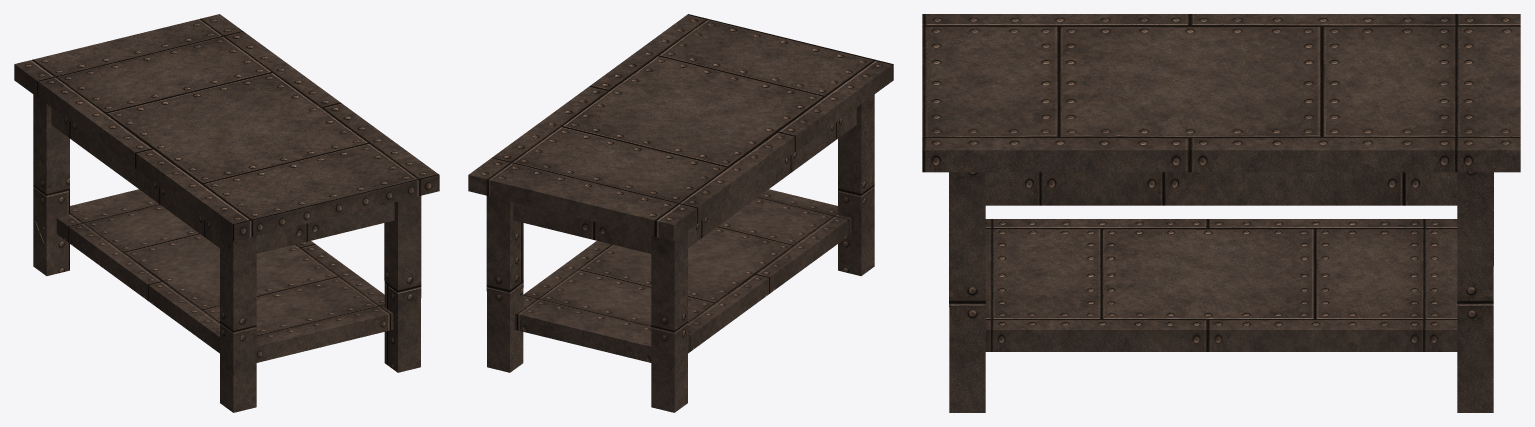
File: Livingroom_Table_2_Metal.fbx
3 views of the same model, side by side, from view 1: azimuth 30°, elevation 25°; view 2: azimuth 150°, elevation 25°; view 3: azimuth 270°, elevation 25° (orthographic). The views are drawn at different scales.
Visible parts, largest first — view 1: Livingroom_Table_2_Metal; view 2: Livingroom_Table_2_Metal; view 3: Livingroom_Table_2_Metal.
Part boxes in pixels (x1=…): Livingroom_Table_2_Metal: x1=14, y1=14, x2=439, y2=412; Livingroom_Table_2_Metal: x1=468, y1=14, x2=893, y2=412; Livingroom_Table_2_Metal: x1=922, y1=14, x2=1520, y2=412.
Size of the model in its own units: 62.49 by 57.34 by 116.
